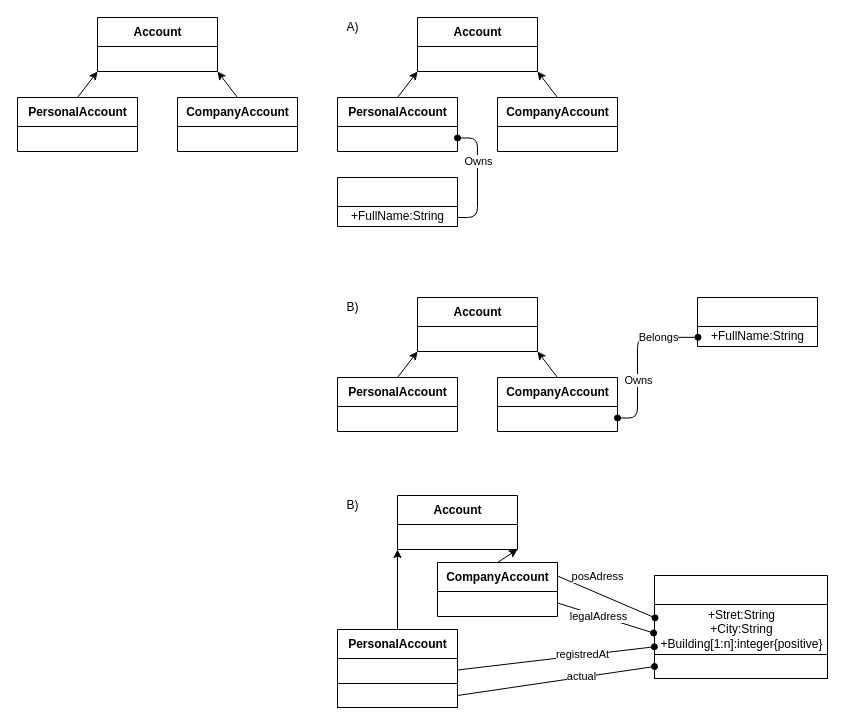
This 845x725 diagram has some shape labels left out. The box of each missing label's shape, as (x1, y1, x2, y2) in pixels:
Adress: (654, 574, 828, 654)
Company: (696, 296, 818, 346)
Person: (336, 176, 458, 226)
